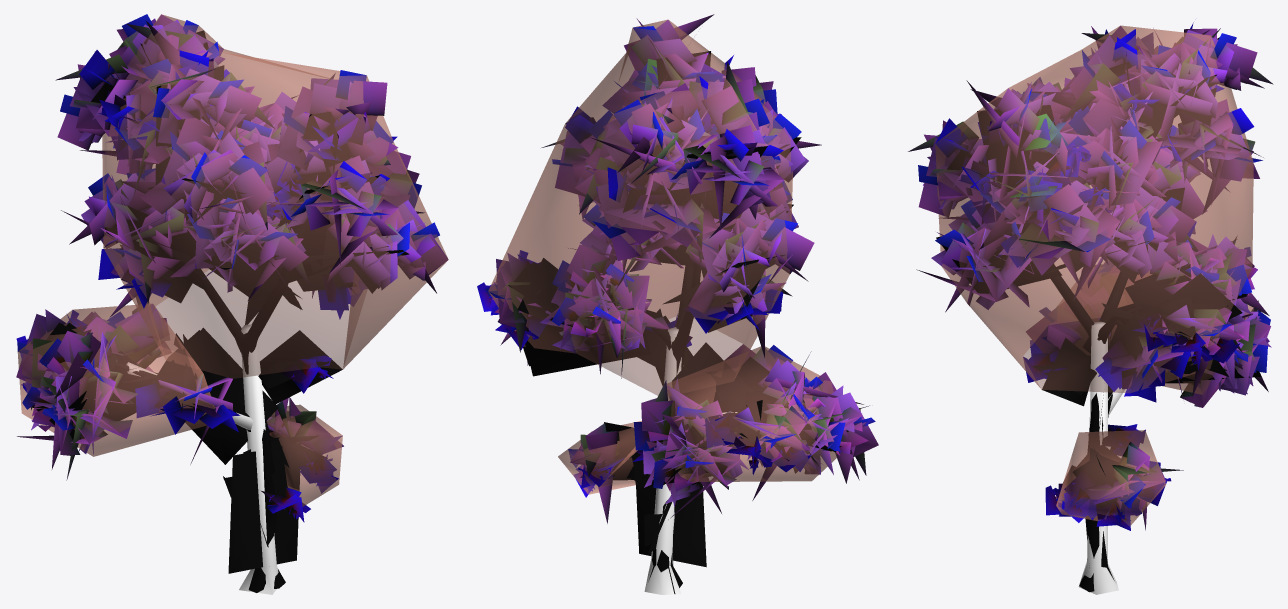
File: tree_oak_forest_b.dae
3 renders of one model, left to right at view 1: azimuth 30°, elevation 25°; view 2: azimuth 150°, elevation 25°; view 3: azimuth 270°, elevation 25°, orthographic. The views are drawn at different scales.
Visible parts, largest first — view 1: Colmesh_forest_02-1, OakForest_02_a2000, OakForest_02_a600; view 2: Colmesh_forest_02-1, OakForest_02_a600, OakForest_02_a2000; view 3: Colmesh_forest_02-1, OakForest_02_a2000, OakForest_02_a600.
Boxes of the visible parts, bbox=[...] form: Colmesh_forest_02-1: bbox=[17, 14, 448, 594]; OakForest_02_a2000: bbox=[16, 14, 448, 592]; OakForest_02_a600: bbox=[16, 20, 436, 592]; Colmesh_forest_02-1: bbox=[488, 19, 836, 594]; OakForest_02_a600: bbox=[482, 14, 878, 593]; OakForest_02_a2000: bbox=[477, 18, 877, 593]; Colmesh_forest_02-1: bbox=[935, 25, 1259, 594]; OakForest_02_a2000: bbox=[918, 22, 1271, 592]; OakForest_02_a600: bbox=[908, 26, 1273, 584].
Bounding box in the file's own units: 10.26 × 9.45 × 15.11.
